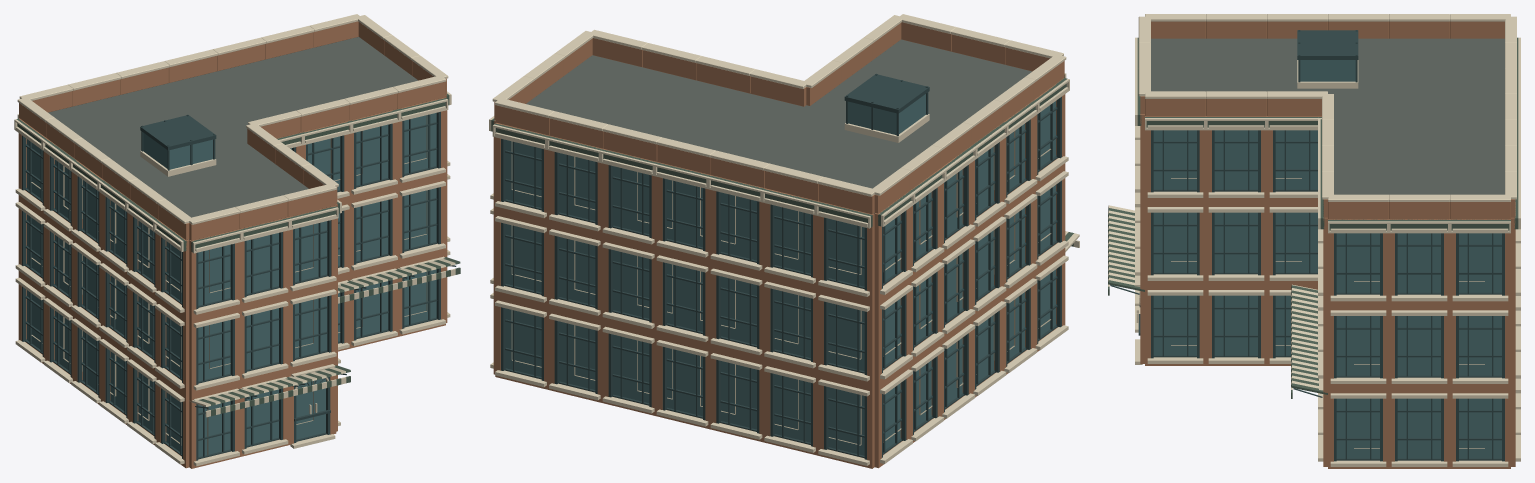
Rendered from corner-restaurant.glb.
3 views of the same model, side by side, from view 1: azimuth 30°, elevation 25°; view 2: azimuth 150°, elevation 25°; view 3: azimuth 270°, elevation 25° (orthographic). The views are drawn at different scales.
Visible parts, largest first — view 1: Roof main.008, Roof wing.004, Foundation.026, collection/roof/frame.001, main/north/1/8333/glass.002, main/north/2/8333/glass.001, wing/north/1/8750/glass.001, main/north/1/5000/glass.002, wing/north/2/8750/glass, main/north/2/5000/glass.001, wing/north/1/6250/glass.001, main/north/1/1667/glass.002 (+144 smaller); view 2: Roof main.008, Roof wing.004, Foundation.026, collection/roof/frame.001, wing/south/1/6250/glass.001, wing/south/1/8750/glass.001, wing/south/0/8750/glass.001, main/south/0/1667/glass.002, main/south/1/1667/glass.002, wing/south/0/6250/glass.001, wing/south/2/8750/glass, wing/south/2/6250/glass (+147 smaller); view 3: Roof main.008, Roof wing.004, wing/east/0/5000/glass.004, wing/east/0/8333/glass.004, wing/east/1/5000/glass.001, wing/east/1/8333/glass.001, wing/east/2/5000/glass, wing/east/2/8333/glass, main/east/0/7500/glass.001, main/east/0/9167/glass.001, main/east/1/7500/glass.001, main/east/1/9167/glass.001 (+106 smaller).
Boxes of the visible parts, left/top/right/bottom form: Roof main.008: left=48, top=83, right=308, bottom=239; Roof wing.004: left=169, top=37, right=417, bottom=140; Foundation.026: left=31, top=115, right=427, bottom=455; collection/roof/frame.001: left=140, top=114, right=216, bottom=170; main/north/1/8333/glass.002: left=295, top=296, right=327, bottom=357; main/north/2/8333/glass.001: left=295, top=221, right=327, bottom=281; wing/north/1/8750/glass.001: left=404, top=188, right=436, bottom=249; main/north/1/5000/glass.002: left=246, top=308, right=278, bottom=369; wing/north/2/8750/glass: left=404, top=113, right=436, bottom=173; main/north/2/5000/glass.001: left=246, top=233, right=278, bottom=293; wing/north/1/6250/glass.001: left=356, top=200, right=388, bottom=261; main/north/1/1667/glass.002: left=198, top=320, right=230, bottom=381; Roof main.008: left=738, top=39, right=1031, bottom=213; Roof wing.004: left=526, top=55, right=805, bottom=155; Foundation.026: left=511, top=131, right=1051, bottom=445; collection/roof/frame.001: left=844, top=73, right=929, bottom=136; wing/south/1/6250/glass.001: left=559, top=237, right=595, bottom=305; wing/south/1/8750/glass.001: left=505, top=224, right=541, bottom=292; wing/south/0/8750/glass.001: left=505, top=308, right=541, bottom=376; main/south/0/1667/glass.002: left=828, top=387, right=864, bottom=455; main/south/1/1667/glass.002: left=828, top=303, right=864, bottom=371; wing/south/0/6250/glass.001: left=559, top=321, right=595, bottom=389; wing/south/2/8750/glass: left=505, top=140, right=541, bottom=207; wing/south/2/6250/glass: left=559, top=153, right=595, bottom=220; Roof main.008: left=1151, top=38, right=1504, bottom=114; Roof wing.004: left=1334, top=114, right=1504, bottom=194; wing/east/0/5000/glass.004: left=1397, top=398, right=1440, bottom=458; wing/east/0/8333/glass.004: left=1336, top=398, right=1379, bottom=458; wing/east/1/5000/glass.001: left=1397, top=316, right=1440, bottom=375; wing/east/1/8333/glass.001: left=1336, top=316, right=1379, bottom=375; wing/east/2/5000/glass: left=1397, top=233, right=1440, bottom=292; wing/east/2/8333/glass: left=1336, top=233, right=1379, bottom=292; main/east/0/7500/glass.001: left=1214, top=295, right=1257, bottom=355; main/east/0/9167/glass.001: left=1153, top=295, right=1196, bottom=355; main/east/1/7500/glass.001: left=1214, top=212, right=1257, bottom=272; main/east/1/9167/glass.001: left=1153, top=212, right=1196, bottom=272.
Size of the model in its own units: 14.65 by 10.33 by 13.53.
